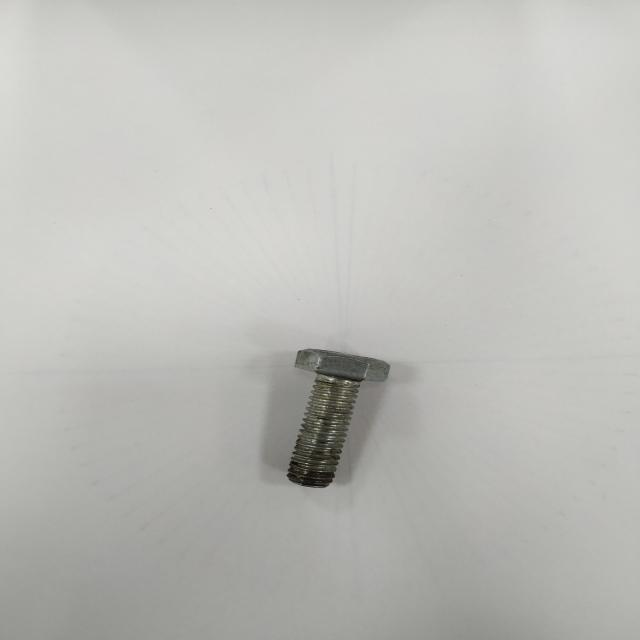Bolt: (287, 349, 390, 488)
